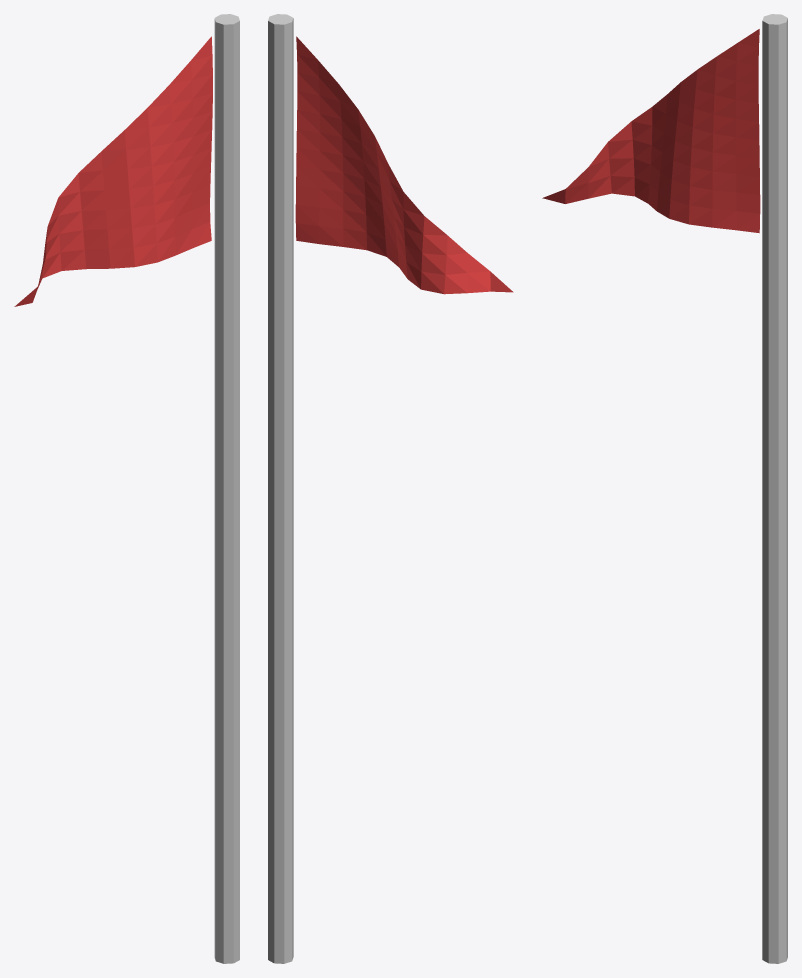
File: flag1.glb
The picture shows the model from 3 angles, left to right: view 1: azimuth 30°, elevation 25°; view 2: azimuth 150°, elevation 25°; view 3: azimuth 330°, elevation 25°; orthographic projection.
Visible parts, largest first — view 1: Cylinder_001_6_0, Plane; view 2: Cylinder_001_6_0, Plane; view 3: Cylinder_001_6_0, Plane.
Part boxes in pixels (x1,y1,x2,y2): Cylinder_001_6_0: (214,14,239,963); Plane: (14,36,212,306); Cylinder_001_6_0: (268,14,293,963); Plane: (295,36,513,294); Cylinder_001_6_0: (762,14,787,963); Plane: (542,29,760,233).
Bounding box in the file's own units: 0.5681 × 2.17 × 0.0986.
